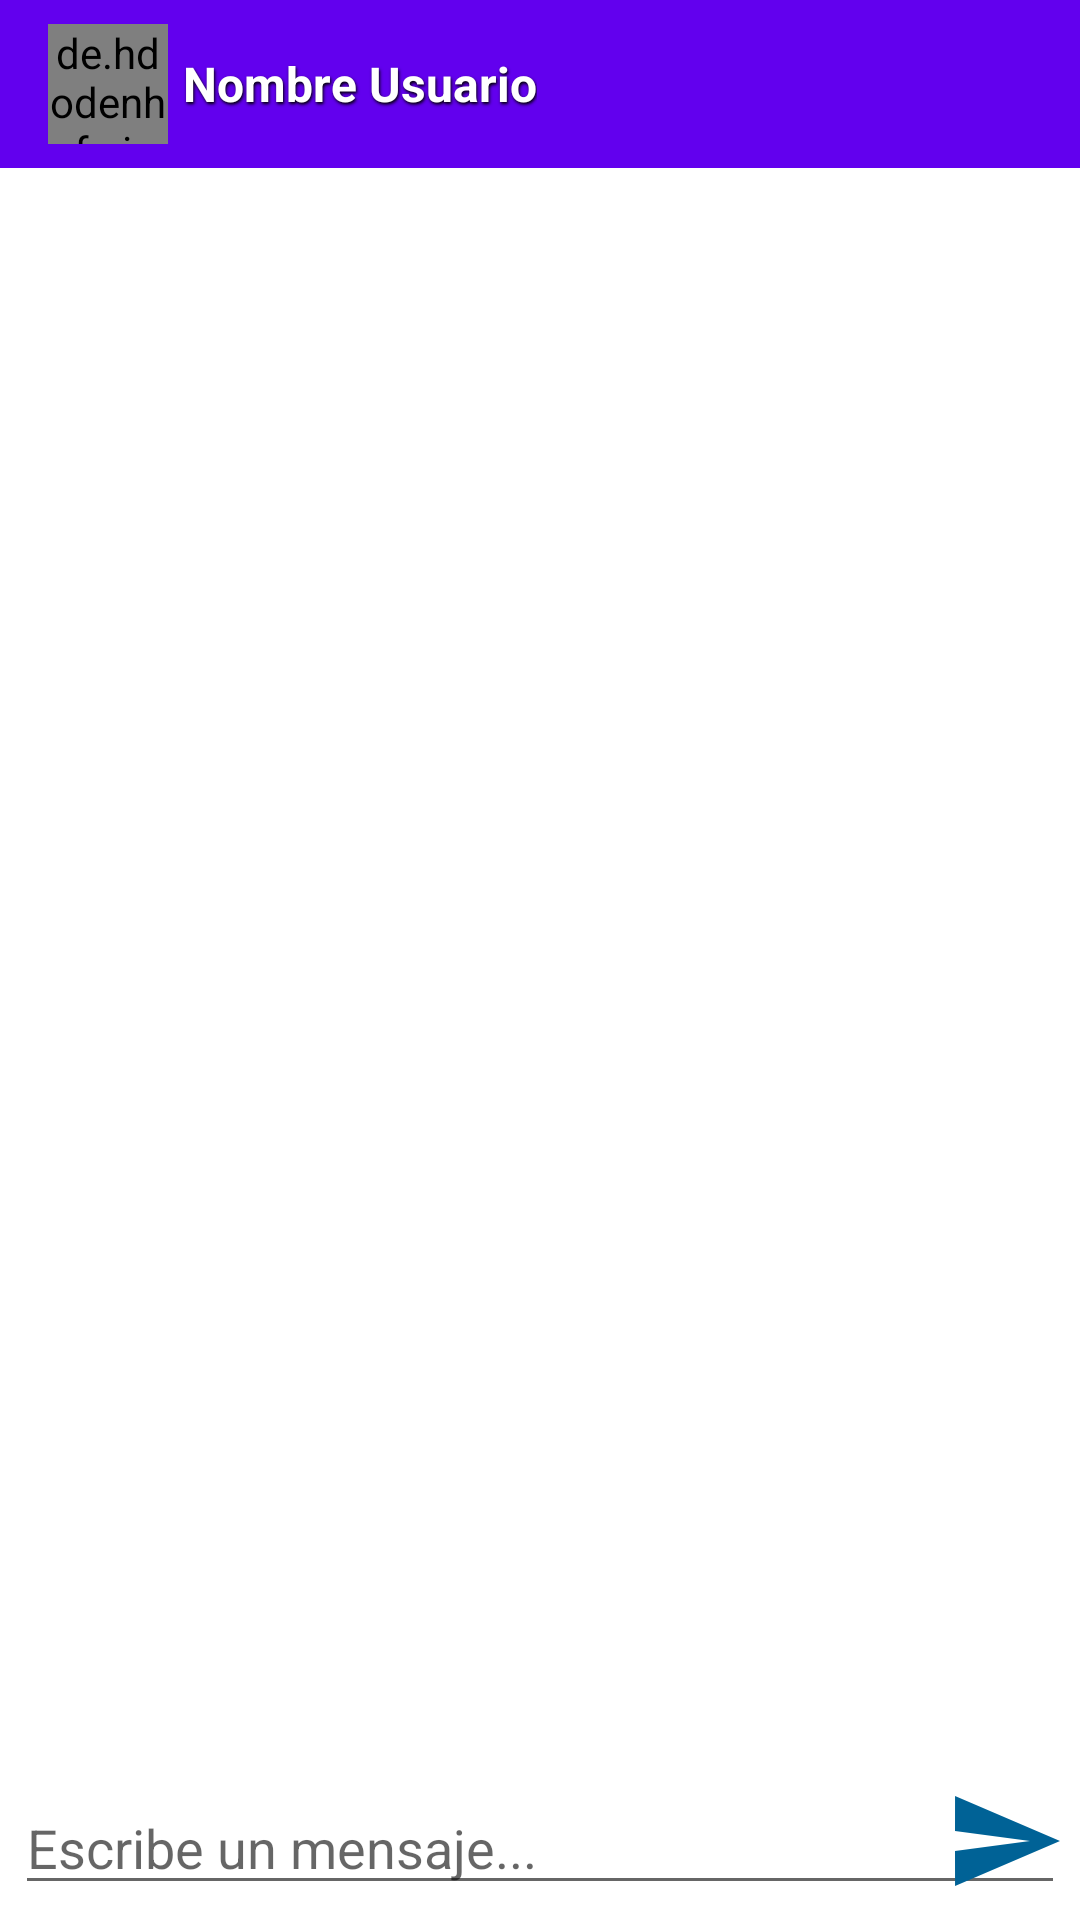

Locate icon controls on the screen. Image size 1080px×1920px, boxes as (x1,y1,x2,y2).
enviar: (945,1796,1060,1886)
